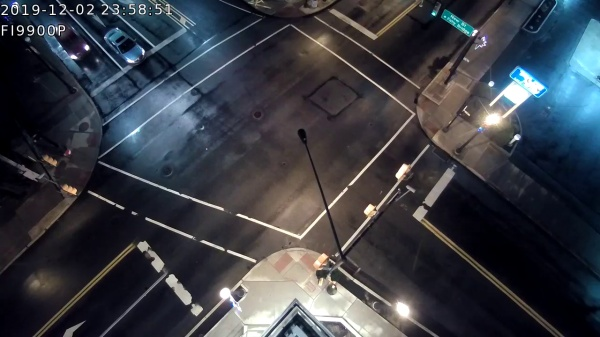car: (49, 21, 94, 64), (102, 27, 145, 66)
